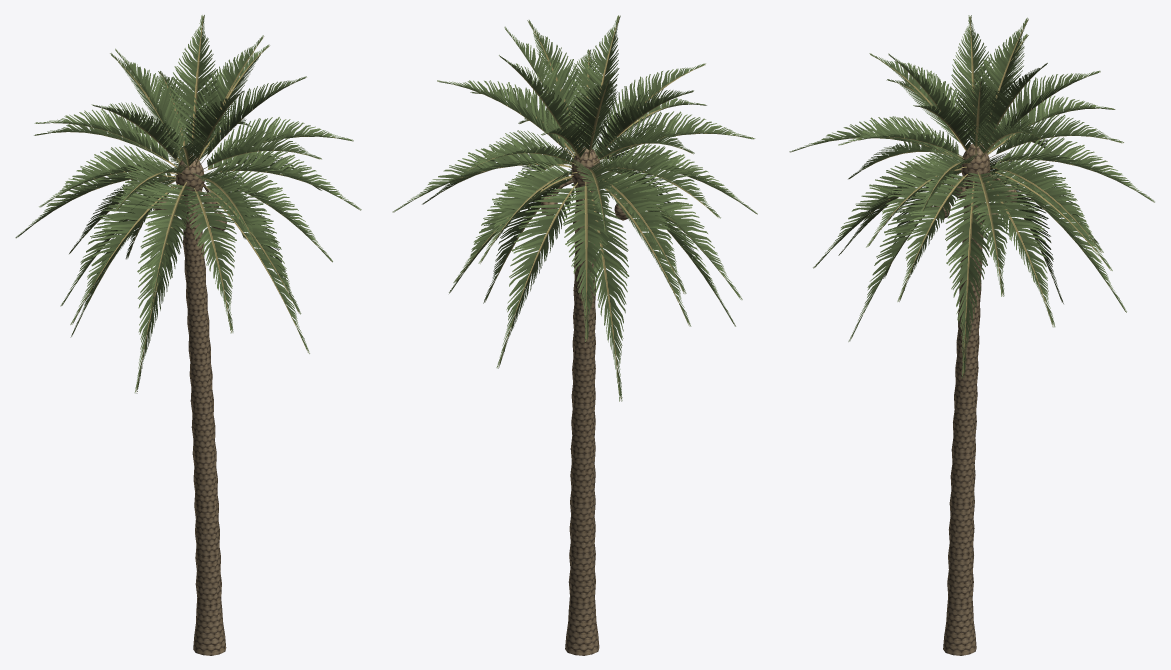
File: date_palm_c.glb
3 views of the same model, side by side, from view 1: azimuth 30°, elevation 25°; view 2: azimuth 150°, elevation 25°; view 3: azimuth 270°, elevation 25° (orthographic). The views are drawn at different scales.
Visible parts, largest first — view 1: Body; view 2: Body; view 3: Body.
Part boxes in pixels (box(x1,y1,x2,y2)): Body: box(15, 15, 361, 655); Body: box(392, 15, 757, 655); Body: box(789, 15, 1154, 655).
Size of what is drawn, in the model's own units: 7.4 by 14.65 by 8.08.
Materials: 2 (2 with a texture image).
